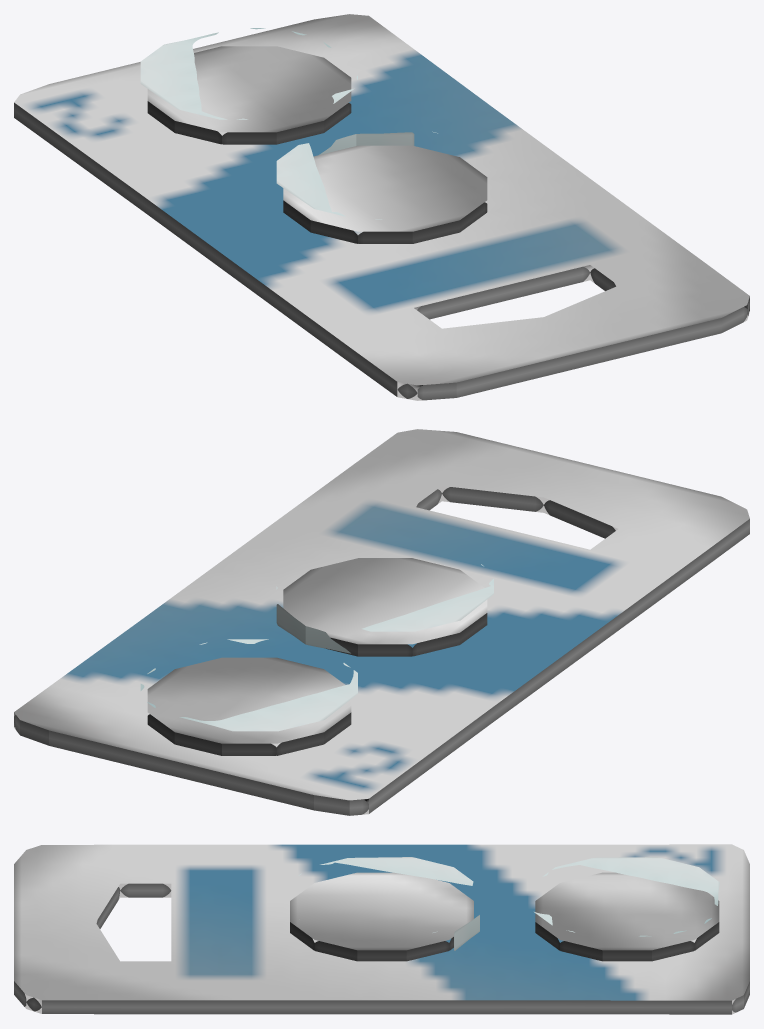
The model's file is ButtonBatteriesNew.fbx.
3 renders of one model, top to bottom at view 1: azimuth 30°, elevation 25°; view 2: azimuth 150°, elevation 25°; view 3: azimuth 270°, elevation 25°, orthographic. The views are drawn at different scales.
Visible parts, largest first — view 1: Base, Batteries, PlasticCover; view 2: Base, Batteries, PlasticCover; view 3: Base, Batteries, PlasticCover.
Boxes of the visible parts, <box> form: Base: <box>14,14,749,400</box>; Batteries: <box>147,46,487,243</box>; PlasticCover: <box>140,28,437,219</box>; Base: <box>14,429,749,815</box>; Batteries: <box>147,558,487,755</box>; PlasticCover: <box>140,564,493,731</box>; Base: <box>14,844,749,1014</box>; Batteries: <box>290,872,719,961</box>; PlasticCover: <box>298,857,719,950</box>.
Bounding box in the file's own units: 37.69 × 4.38 × 75.
1 material, 1 textured.
